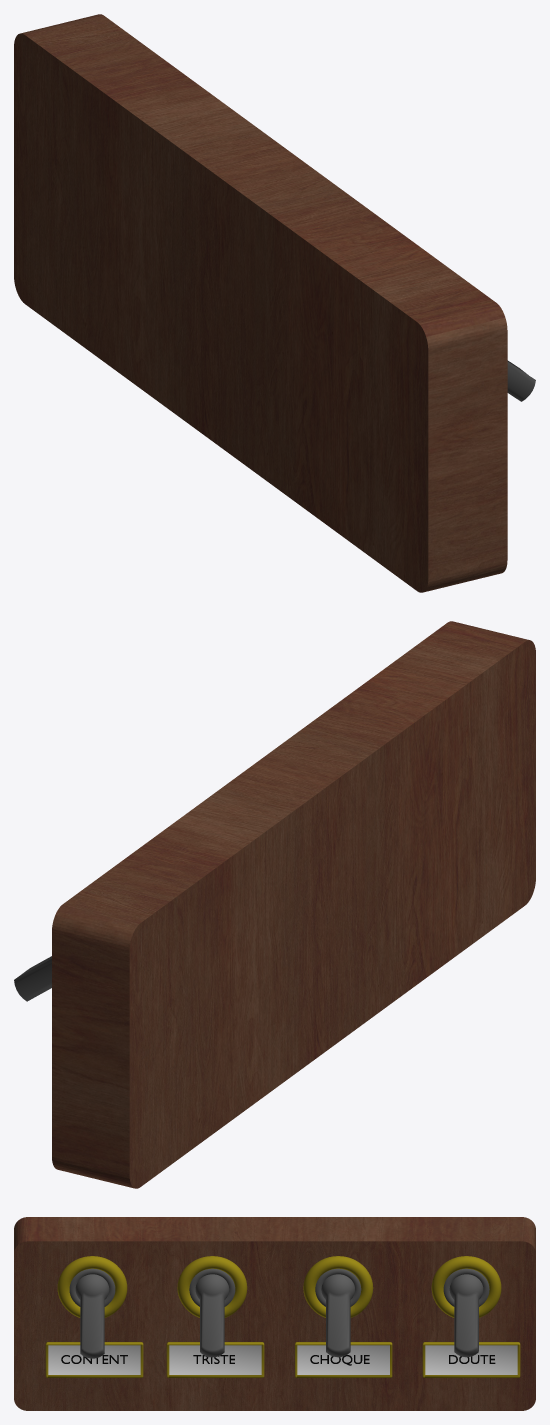
Rendered from switches.gltf.
3 renders of one model, top to bottom at view 1: azimuth 30°, elevation 25°; view 2: azimuth 150°, elevation 25°; view 3: azimuth 270°, elevation 25°, orthographic. The views are drawn at different scales.
Parts seen in each view (by area): view 1: Cube, Sphere; view 2: Cube, Sphere.003; view 3: Cube, Cube.004, Cube.002, Cube.001, Cube.003, Sphere, Sphere.001, Sphere.003, Sphere.002, Torus, Torus.004, Torus.002 (+7 smaller).
Boxes of the visible parts, x1,y1,x2,y2 form: Cube: (14,14,507,592); Sphere: (507,360,535,401); Cube: (52,621,535,1188); Sphere.003: (14,956,51,1001); Cube: (14,1217,535,1410); Cube.004: (422,1342,520,1377); Cube.002: (166,1342,264,1377); Cube.001: (45,1342,143,1377); Cube.003: (295,1342,392,1377); Sphere: (75,1274,109,1358); Sphere.001: (195,1274,229,1357); Sphere.003: (449,1274,483,1357); Sphere.002: (321,1274,354,1357); Torus: (57,1256,127,1317); Torus.004: (303,1256,373,1317); Torus.002: (177,1256,247,1317).
Size of the model in its own units: 4.32 by 6.58 by 18.35.
Materials: 5 (1 with a texture image).
